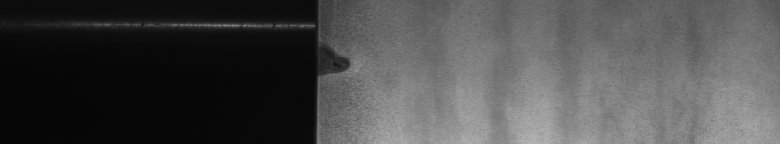hb: (328, 12, 368, 80)
